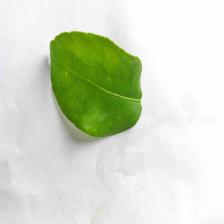greening: (49, 30, 130, 134)
